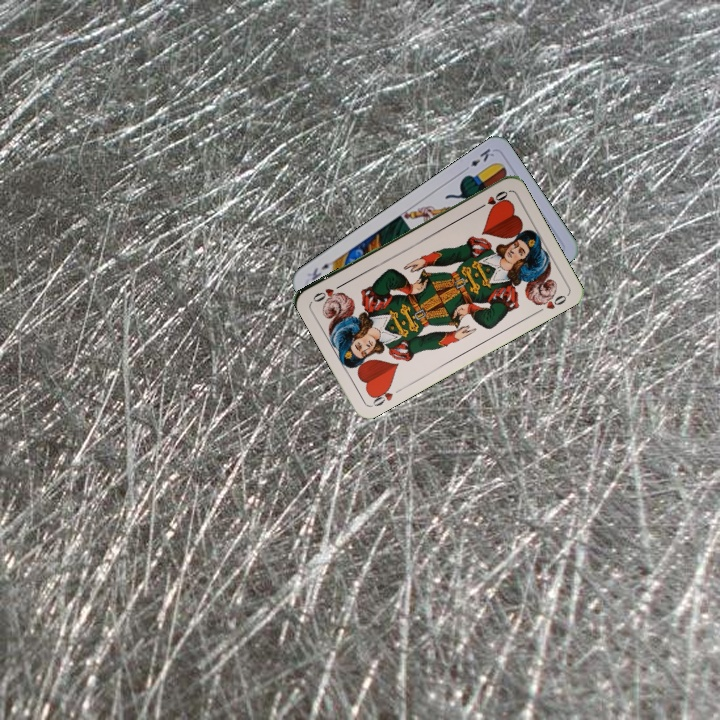EK: (459, 144, 497, 174)
HO: (473, 186, 511, 212), (367, 381, 396, 409)
